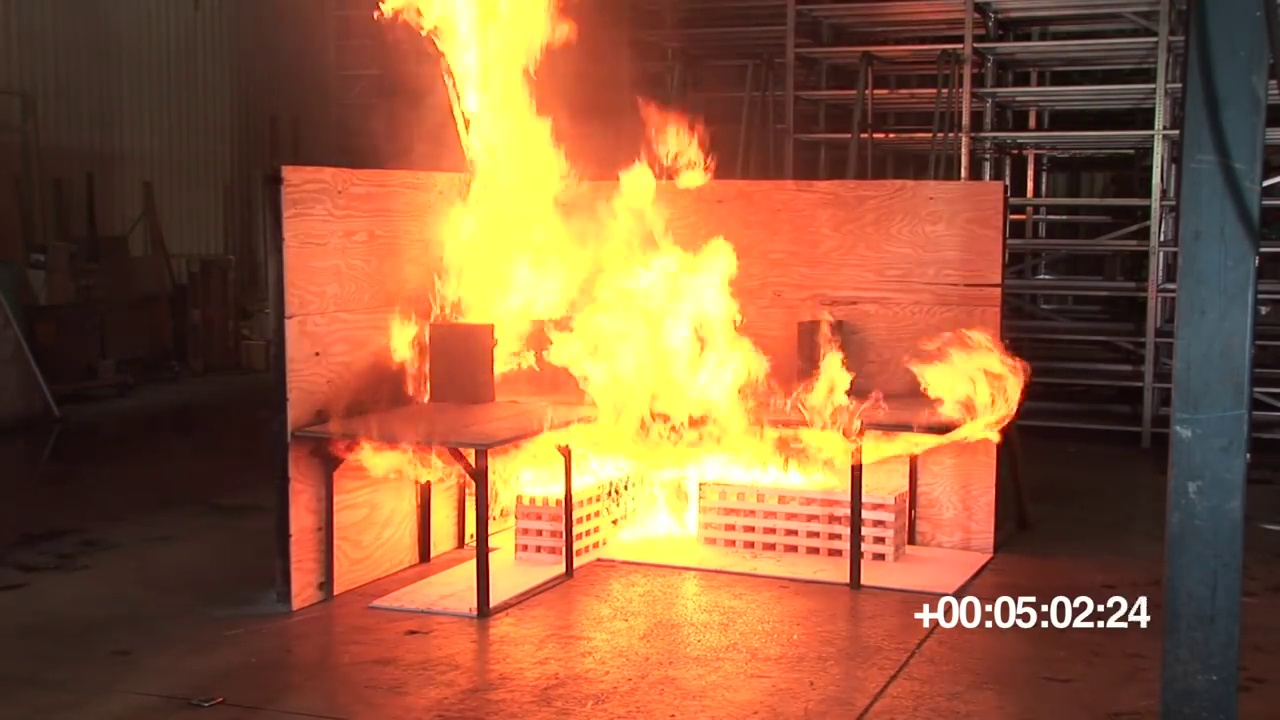fire: (379, 1, 769, 434), (490, 435, 853, 496), (905, 323, 1026, 439), (798, 342, 860, 469)
